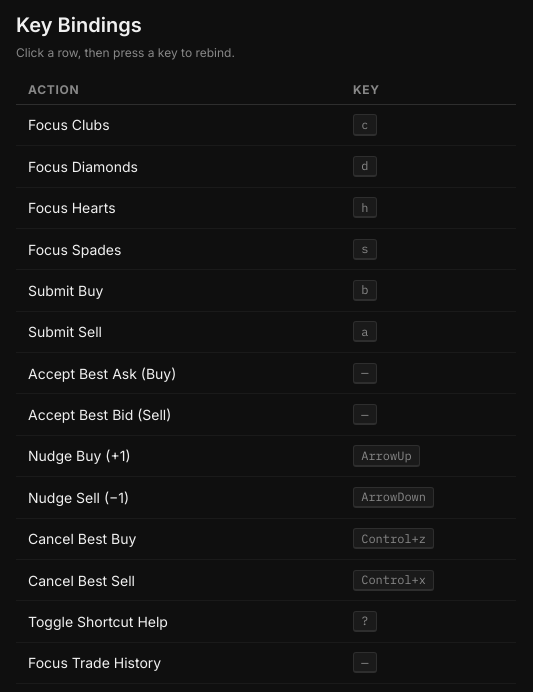
Test: KeybindSettings › pressing a key while editing updates the binding display
The image size is (533, 692).
Click the button "Focus Clubs c". click: (69, 125)
box: top-left (16, 104), bottom-right (516, 146)
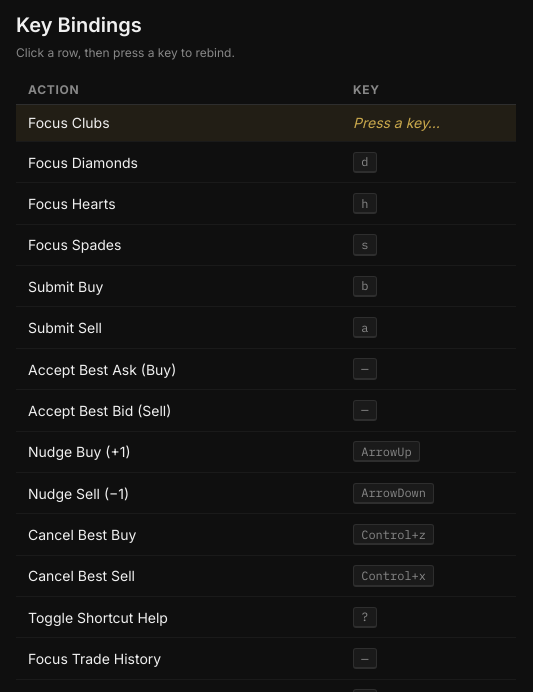
Press q
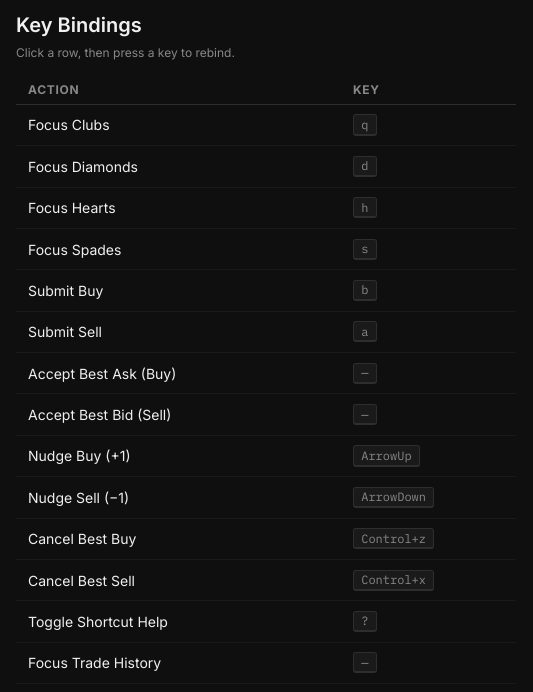
Now the text "Press a key…" is gone
Now the text "q" is shown, box top-left (353, 114), bottom-right (377, 136)
